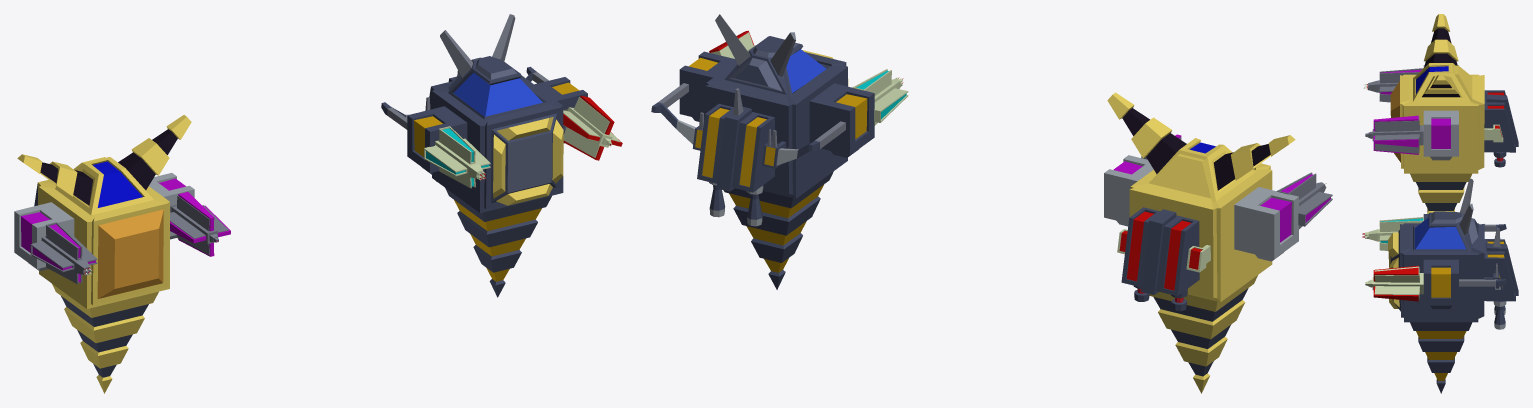
The model's file is bee_turret.obj.
The picture shows the model from 3 angles, left to right: view 1: azimuth 30°, elevation 25°; view 2: azimuth 150°, elevation 25°; view 3: azimuth 270°, elevation 25°; orthographic projection. The views are drawn at different scales.
Visible parts, largest first — view 1: Cube, Cube.007, Cube.009, Cube.008, Cube.002, Cube.001; view 2: Cube, Cube.007, Cube.008, Cube.001; view 3: Cube.007, Cube, Cube.002, Cube.009, Cube.001, Cube.008.
Part boxes in pixels (x1,y1,x2,y2): Cube: [14, 115, 194, 393]; Cube.007: [381, 14, 587, 297]; Cube.009: [563, 95, 622, 160]; Cube.008: [424, 126, 490, 188]; Cube.002: [170, 192, 230, 256]; Cube.001: [30, 222, 97, 284]; Cube: [1104, 92, 1298, 393]; Cube.007: [651, 14, 874, 289]; Cube.008: [852, 69, 908, 125]; Cube.001: [1276, 172, 1332, 229]; Cube.007: [1388, 178, 1518, 393]; Cube: [1390, 14, 1518, 213]; Cube.002: [1365, 115, 1423, 154]; Cube.009: [1365, 265, 1423, 301]; Cube.001: [1368, 68, 1423, 102]; Cube.008: [1365, 217, 1423, 250].
Bounding box in the file's own units: 13.56 × 6.01 × 4.22.
9 materials, 1 textured.
